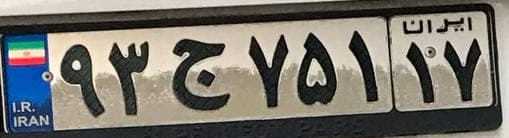character: (160, 32, 239, 119), (104, 33, 160, 122), (240, 28, 297, 113), (54, 40, 107, 125), (291, 25, 342, 112), (342, 26, 385, 110), (437, 36, 486, 105), (397, 36, 441, 106)
